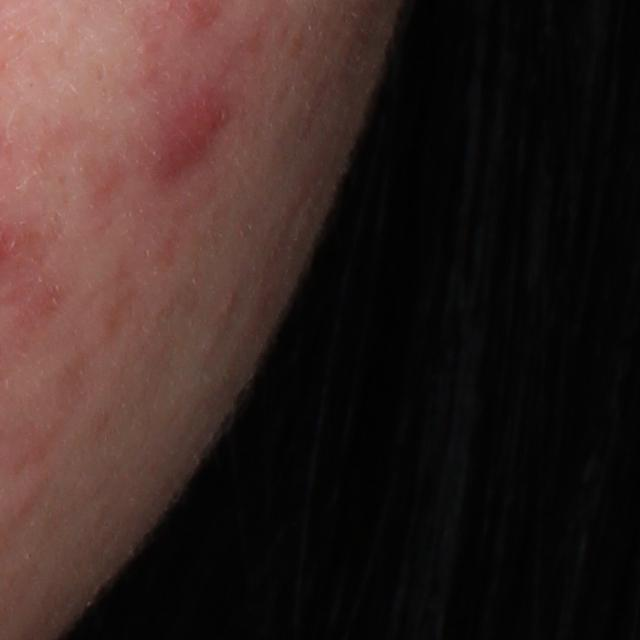papule: (165, 92, 224, 175)
